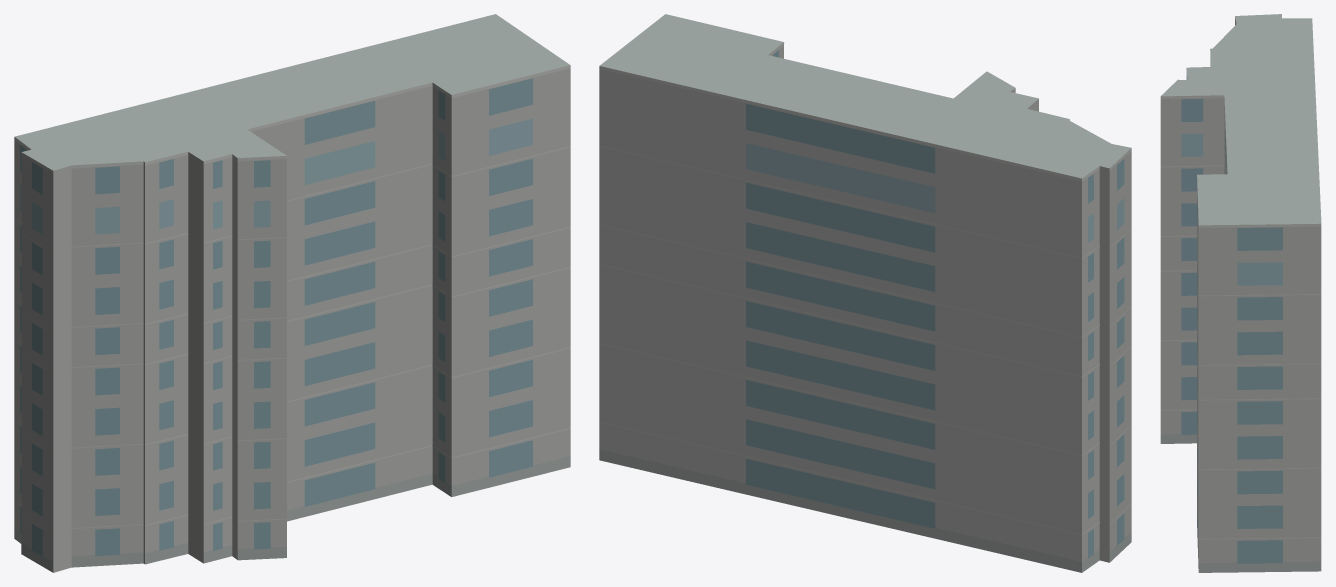
The model's file is survey-upis-32829558.glb.
3 views of the same model, side by side, from view 1: azimuth 30°, elevation 25°; view 2: azimuth 150°, elevation 25°; view 3: azimuth 270°, elevation 25° (orthographic). The views are drawn at different scales.
Visible parts, largest first — view 1: survey-upis-32829558.tmp; view 2: survey-upis-32829558.tmp; view 3: survey-upis-32829558.tmp.
Part boxes in pixels (x1,y1,x2,y2): survey-upis-32829558.tmp: (14,14,570,572); survey-upis-32829558.tmp: (599,14,1131,572); survey-upis-32829558.tmp: (1160,14,1321,572).
Size of the model in its own units: 39.79 by 30.5 by 12.83.
